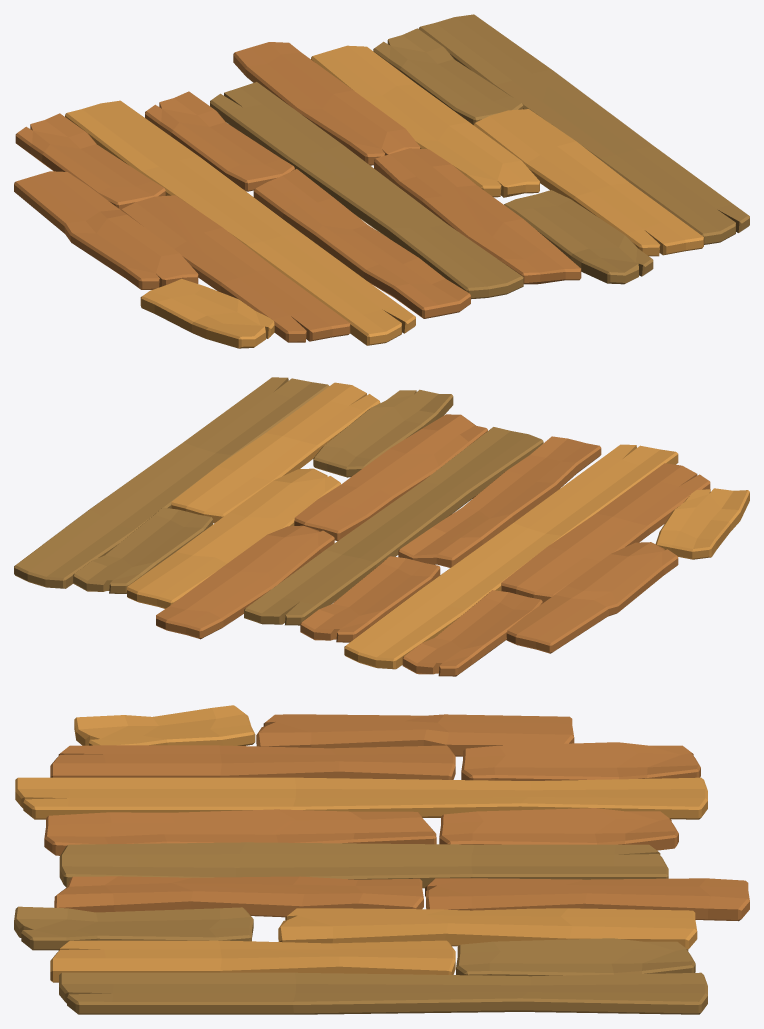
Rendered from Beach_House_G_Plank_01.fbx.
3 views of the same model, one above another, from view 1: azimuth 30°, elevation 25°; view 2: azimuth 150°, elevation 25°; view 3: azimuth 270°, elevation 25° (orthographic). The views are drawn at different scales.
Parts seen in each view (by area): view 1: Beach_House_G_Plank_01; view 2: Beach_House_G_Plank_01; view 3: Beach_House_G_Plank_01.
Part boxes in pixels (x1=…): Beach_House_G_Plank_01: x1=14, y1=14, x2=749, y2=348; Beach_House_G_Plank_01: x1=14, y1=377, x2=749, y2=676; Beach_House_G_Plank_01: x1=14, y1=705, x2=749, y2=1014.
Size of the model in its own units: 8.27 by 0.2626 by 8.62.
